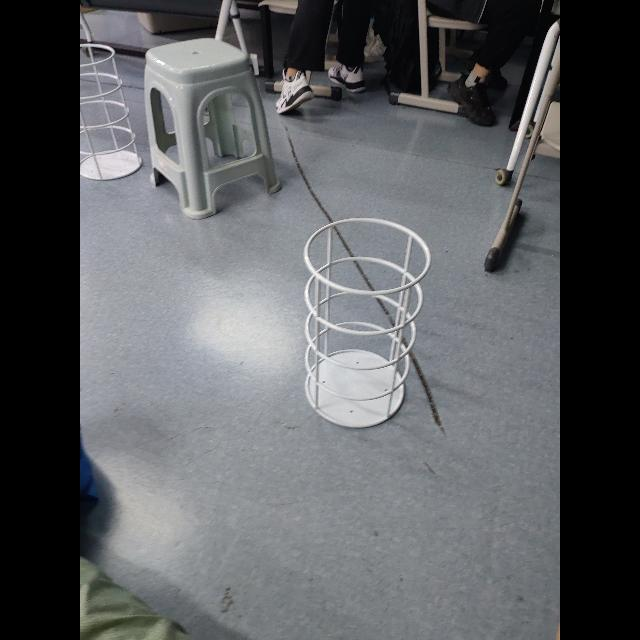S: (300, 214, 434, 432)
